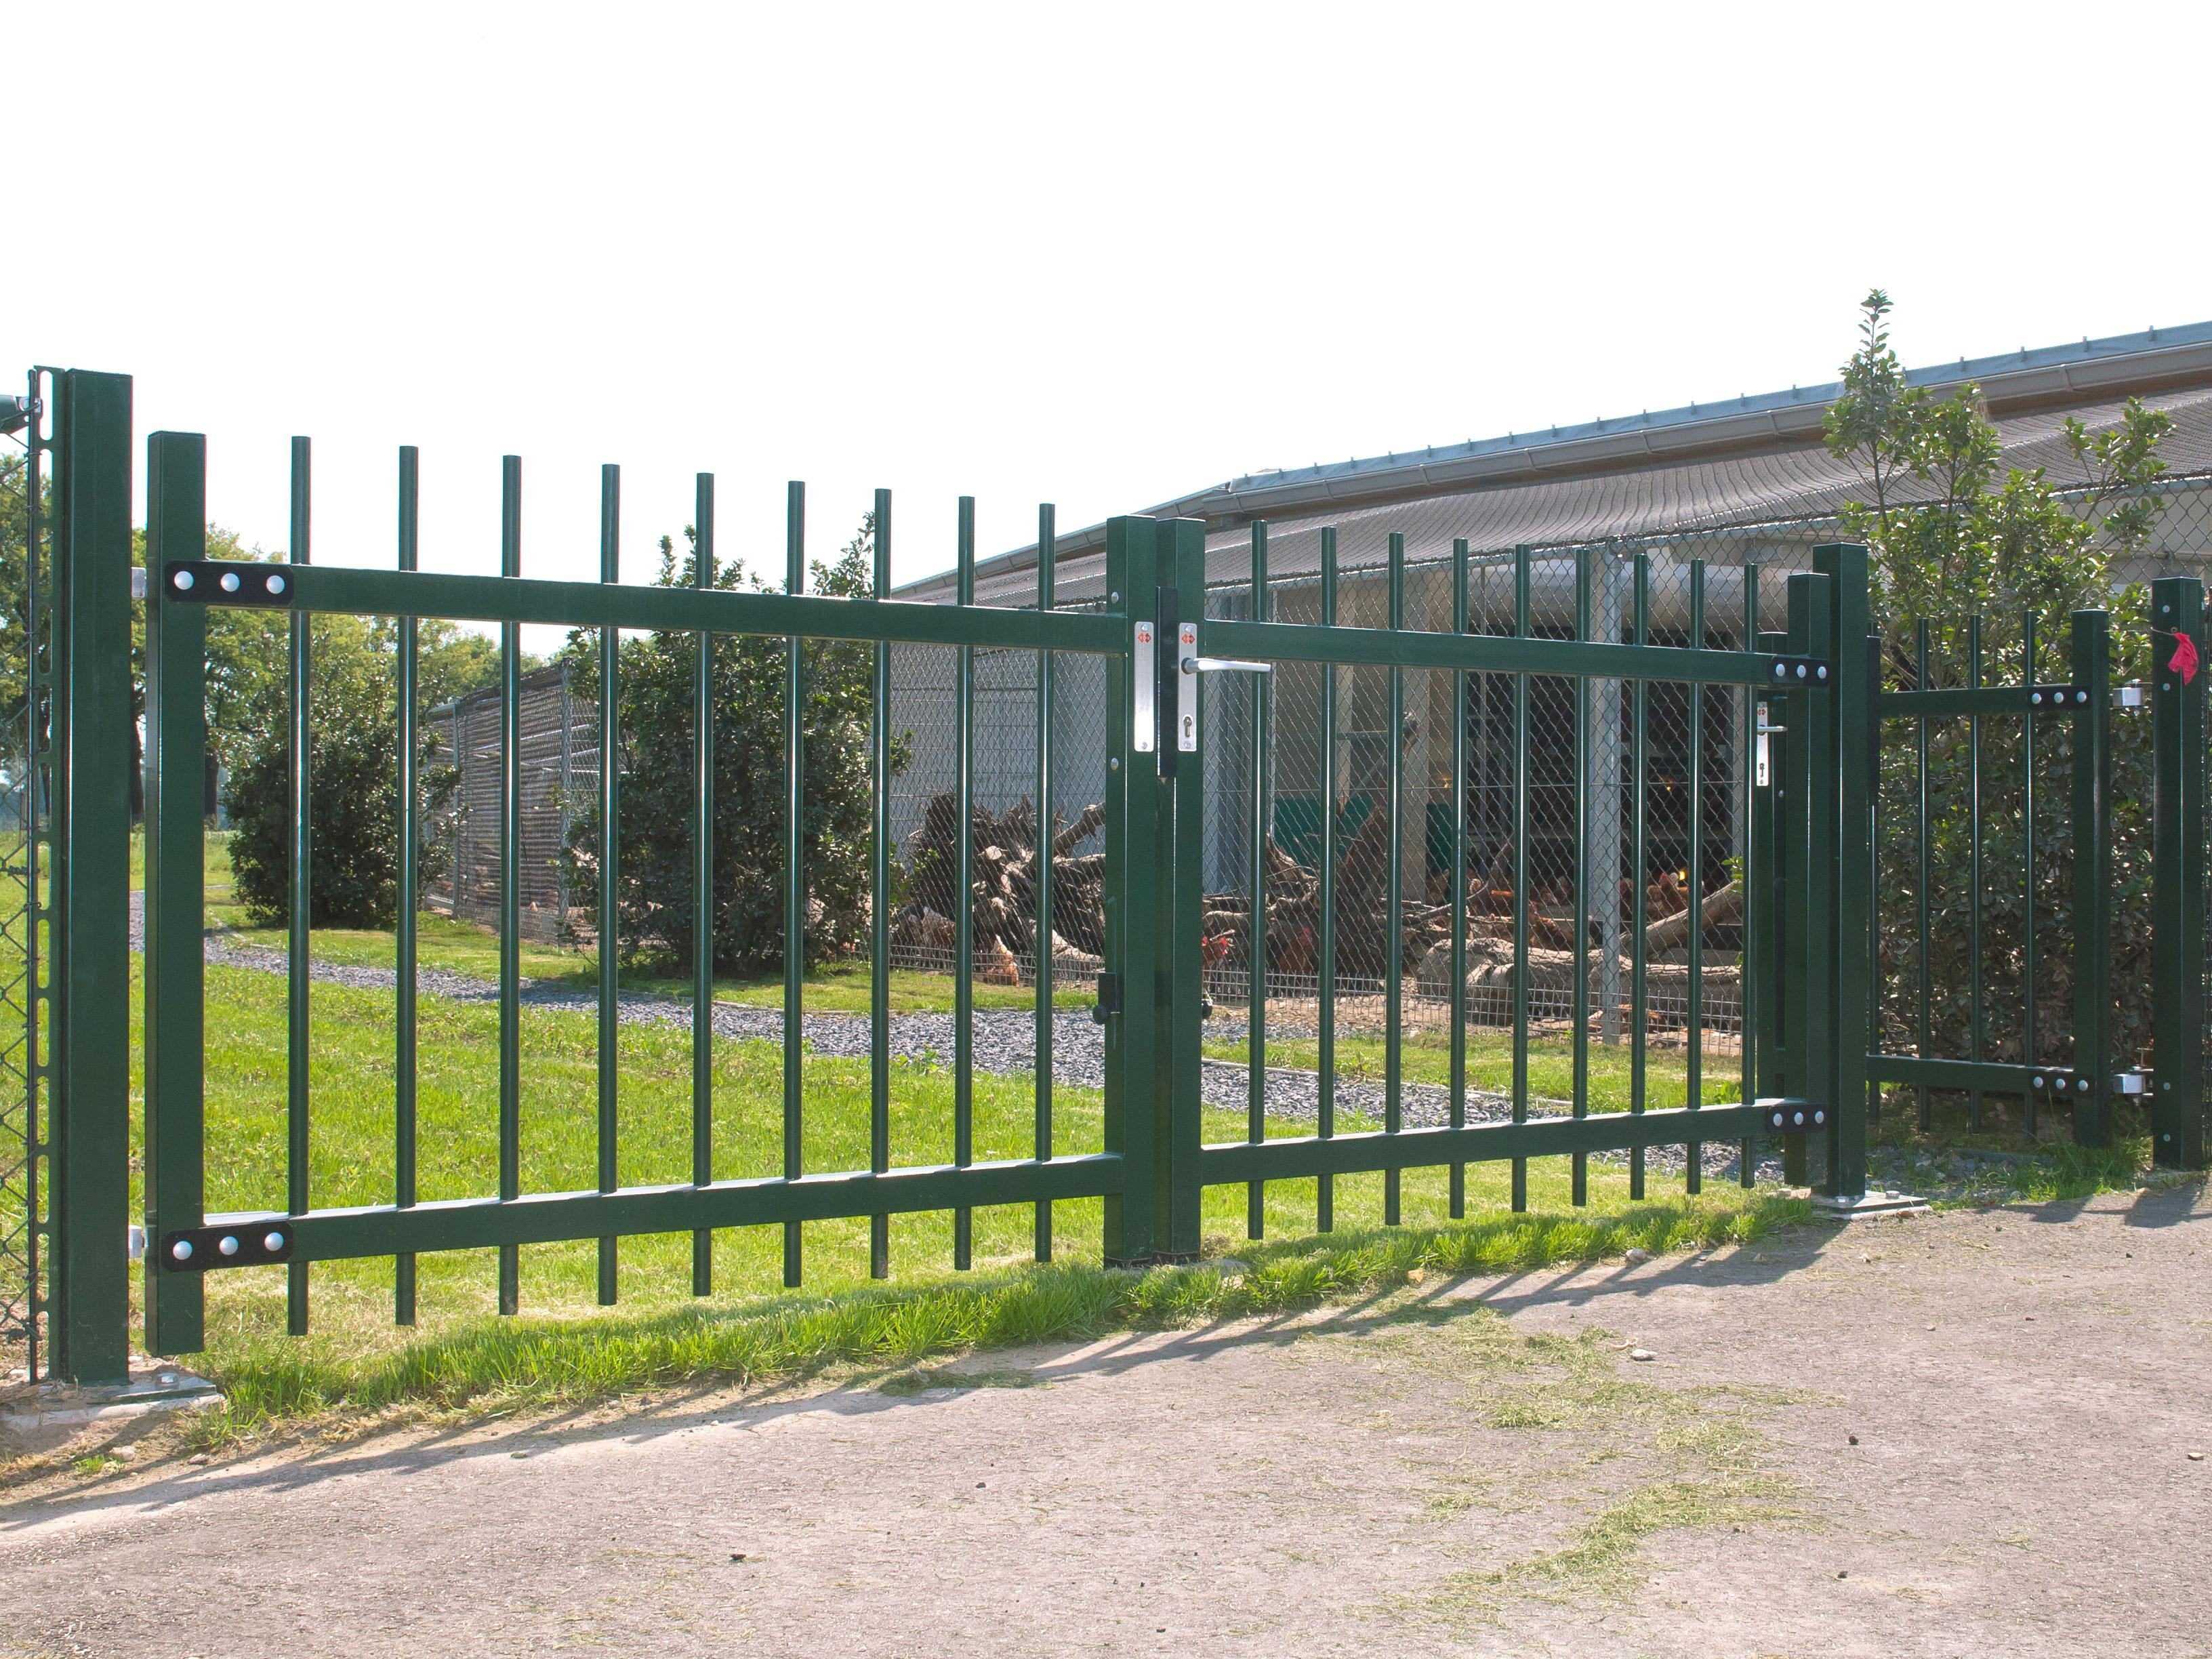obstacle: (0, 87, 2212, 1656)
